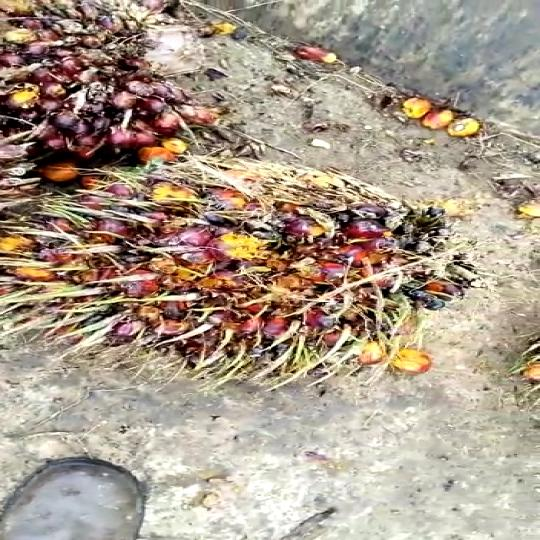masak: (0, 170, 507, 388)
